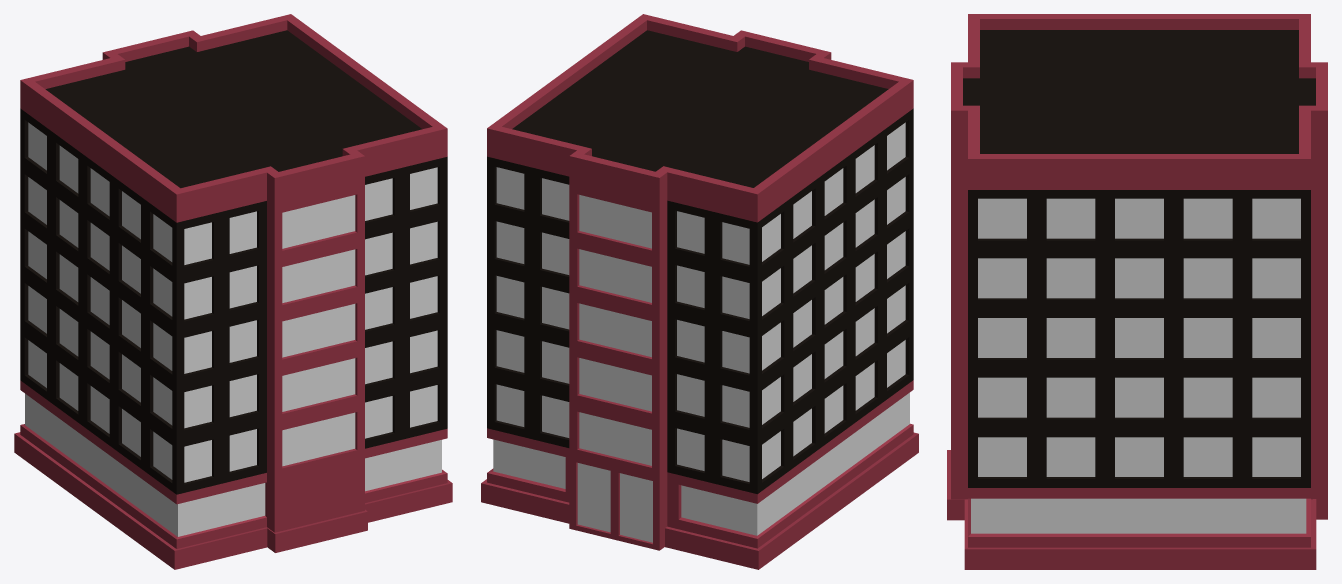
The model's file is gedung tinggi 2.fbx.
The picture shows the model from 3 angles, left to right: view 1: azimuth 30°, elevation 25°; view 2: azimuth 150°, elevation 25°; view 3: azimuth 270°, elevation 25°; orthographic projection. The views are drawn at different scales.
Visible parts, largest first — view 1: Cube.165; view 2: Cube.165; view 3: Cube.165.
Part boxes in pixels (x1,y1,x2,y2): Cube.165: [14, 14, 452, 569]; Cube.165: [481, 14, 918, 569]; Cube.165: [947, 14, 1327, 569].
Bounding box in the file's own units: 7005 × 8995 × 7585.
